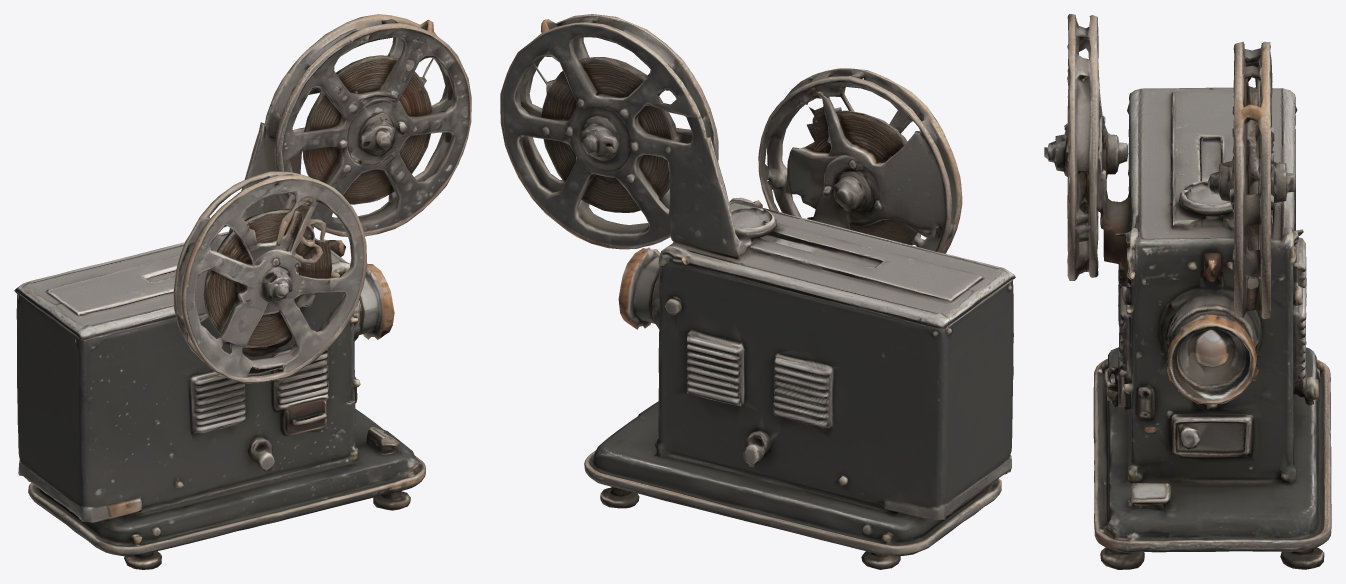
The picture shows the model from 3 angles, left to right: view 1: azimuth 30°, elevation 25°; view 2: azimuth 150°, elevation 25°; view 3: azimuth 270°, elevation 25°; orthographic projection. The views are drawn at different scales.
Parts seen in each view (by area): view 1: tripo_node_71629c23-90c3-463b-8724-502066277080; view 2: tripo_node_71629c23-90c3-463b-8724-502066277080; view 3: tripo_node_71629c23-90c3-463b-8724-502066277080.
Boxes of the visible parts, bbox=[...] form: tripo_node_71629c23-90c3-463b-8724-502066277080: bbox=[14, 14, 471, 569]; tripo_node_71629c23-90c3-463b-8724-502066277080: bbox=[500, 14, 1015, 569]; tripo_node_71629c23-90c3-463b-8724-502066277080: bbox=[1044, 14, 1331, 569].
Size of the model in its own units: 1 by 0.9567 by 0.4717.
1 material, 1 textured.
